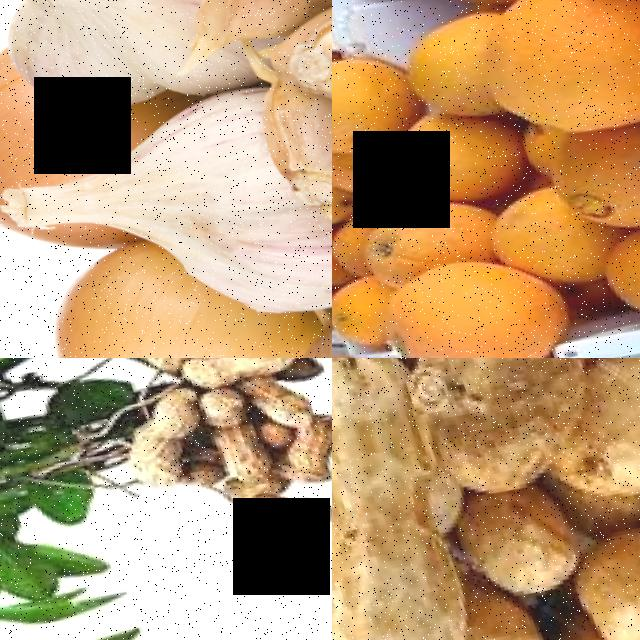onion: (2, 235, 216, 358), (0, 50, 67, 211)
orange: (456, 0, 640, 151), (360, 241, 572, 358), (367, 93, 536, 215), (336, 181, 508, 288), (528, 88, 640, 243), (332, 37, 423, 164), (586, 200, 640, 327)
peanuts: (332, 419, 503, 640), (379, 358, 607, 510), (332, 358, 462, 569), (532, 358, 640, 512), (552, 494, 640, 640), (217, 468, 332, 538), (106, 408, 184, 491), (268, 401, 332, 479), (167, 358, 302, 391)
